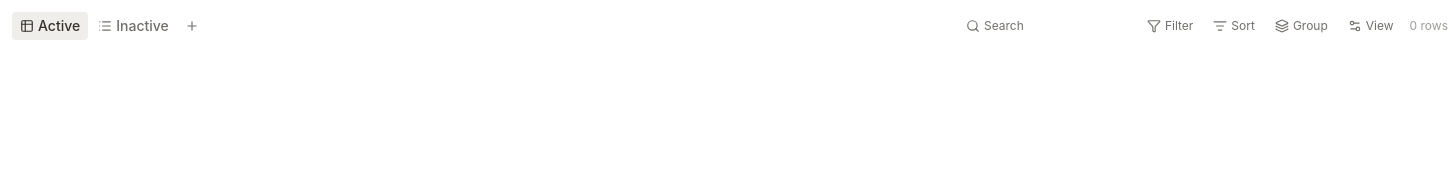
Test: view-tab context menu › opens the database menu from toolbar whitespace
The width and height of the screenshot is (1452, 172).
Right-click the element showing "Active Inactive Filter Sort Group View 0 rows" at [1429, 26], box [12,12,1451,40]
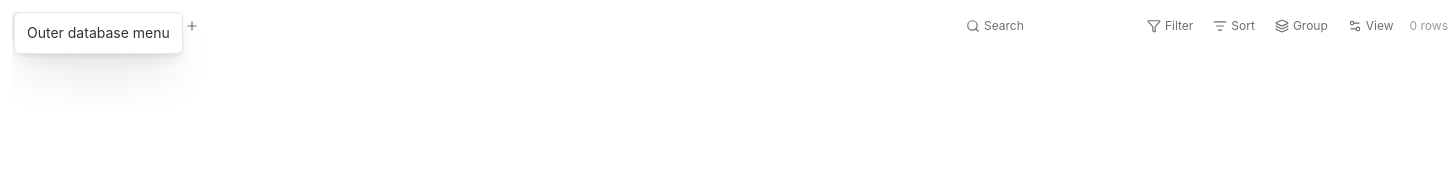
Expected: the menu item "Outer database menu" is shown, [27,24,170,41]
